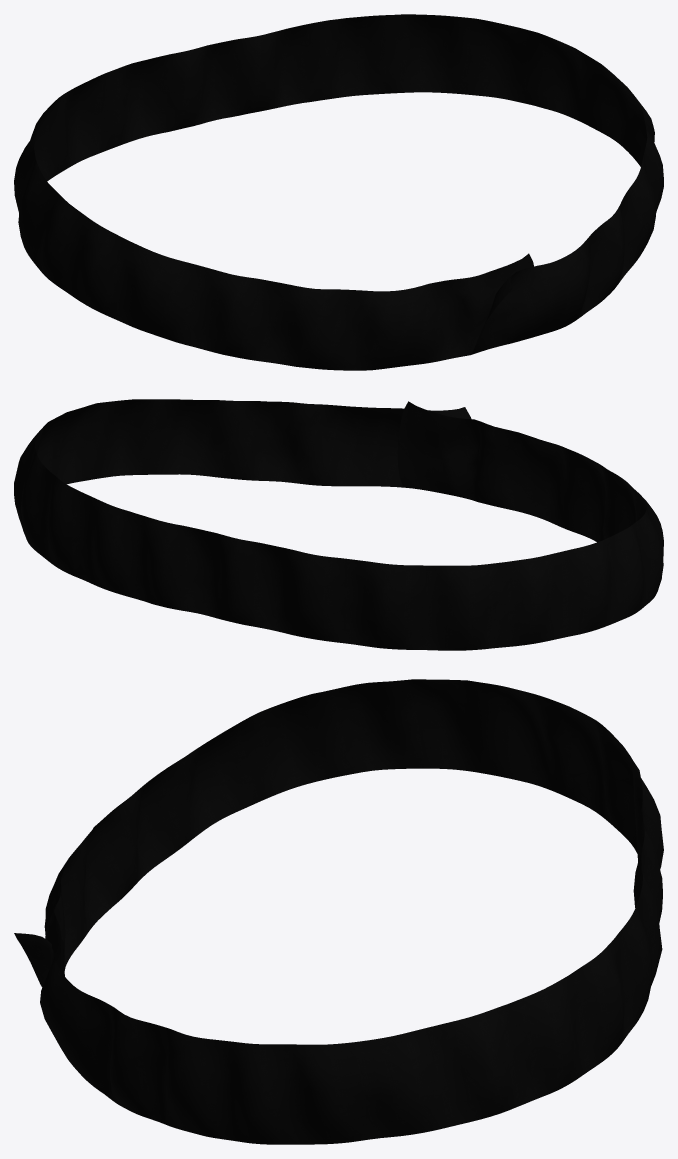
The model's file is xzkuyaoq.glb.
3 renders of one model, top to bottom at view 1: azimuth 30°, elevation 25°; view 2: azimuth 150°, elevation 25°; view 3: azimuth 270°, elevation 25°, orthographic. The views are drawn at different scales.
Visible parts, largest first — view 1: xzkuyaoq; view 2: xzkuyaoq; view 3: xzkuyaoq.
Boxes of the visible parts, x1=… form: xzkuyaoq: x1=14, y1=14, x2=663, y2=370; xzkuyaoq: x1=14, y1=399, x2=663, y2=650; xzkuyaoq: x1=14, y1=679, x2=663, y2=1144.
Size of the model in its own units: 3.11 by 0.7387 by 2.42.
Materials: 1 (1 with a texture image).
